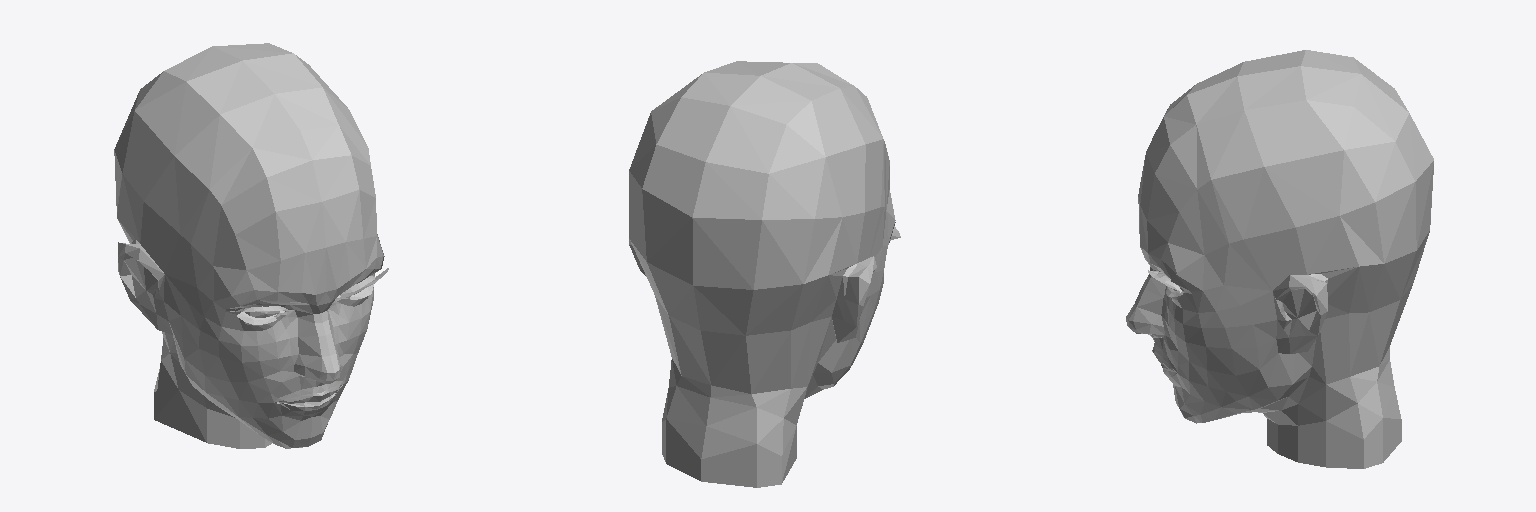
Rendered from characterhead.obj.
3 views of the same model, side by side, from view 1: azimuth 30°, elevation 25°; view 2: azimuth 150°, elevation 25°; view 3: azimuth 270°, elevation 25° (orthographic).
Bounding box in the file's own units: 0.1839 × 0.2759 × 0.2048.